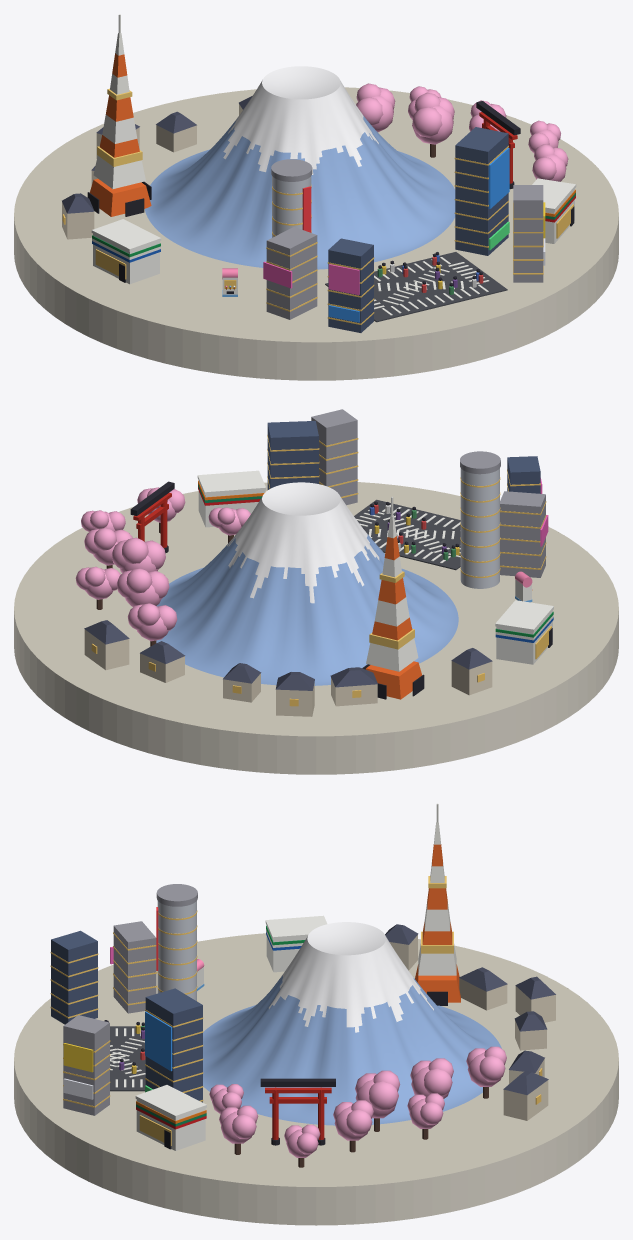
File: tokyo.glb
3 views of the same model, one above another, from view 1: azimuth 30°, elevation 25°; view 2: azimuth 150°, elevation 25°; view 3: azimuth 270°, elevation 25° (orthographic).
Parts seen in each view (by area): view 1: DECO-base, OBJ-mt-fuji, DECO-sakura, qfront-body, crossing-road, s109-wing-body, DECO-houses, tsutaya-east-body, shibuya-west-body, s109-drum, crossing-stripes, tower-0.0 (+13 smaller); view 2: DECO-base, OBJ-mt-fuji, DECO-houses, DECO-sakura, s109-drum, s109-wing-body, crossing-road, tsutaya-east-body, qfront-body, 7-eleven-roof, familymart-roof, crossing-stripes (+11 smaller); view 3: DECO-base, OBJ-mt-fuji, DECO-sakura, DECO-houses, qfront-body, shibuya-west-body, s109-wing-body, s109-drum, tsutaya-east-body, crossing-road, 7-eleven-roof, qfront-screen-0 (+10 smaller).
Boxes of the visible parts, x1=… form: DECO-base: x1=14, y1=87, x2=618, y2=380; OBJ-mt-fuji: x1=144, y1=66, x2=455, y2=269; DECO-sakura: x1=356, y1=83, x2=568, y2=181; qfront-body: x1=455, y1=127, x2=508, y2=255; crossing-road: x1=325, y1=252, x2=507, y2=322; s109-wing-body: x1=266, y1=227, x2=317, y2=319; DECO-houses: x1=62, y1=96, x2=252, y2=239; tsutaya-east-body: x1=513, y1=185, x2=543, y2=282; shibuya-west-body: x1=328, y1=238, x2=373, y2=332; s109-drum: x1=272, y1=176, x2=311, y2=237; crossing-stripes: x1=374, y1=257, x2=489, y2=315; tower-0.0: x1=90, y1=178, x2=151, y2=216; DECO-base: x1=14, y1=482, x2=618, y2=774; OBJ-mt-fuji: x1=156, y1=482, x2=458, y2=685; DECO-houses: x1=84, y1=620, x2=492, y2=716; DECO-sakura: x1=75, y1=487, x2=250, y2=646; s109-drum: x1=460, y1=468, x2=499, y2=588; s109-wing-body: x1=500, y1=491, x2=545, y2=577; crossing-road: x1=354, y1=499, x2=460, y2=570; tsutaya-east-body: x1=311, y1=409, x2=357, y2=505; qfront-body: x1=267, y1=421, x2=318, y2=489; 7-eleven-roof: x1=197, y1=470, x2=266, y2=494; familymart-roof: x1=495, y1=600, x2=553, y2=632; crossing-stripes: x1=356, y1=505, x2=460, y2=563; DECO-base: x1=14, y1=933, x2=618, y2=1225; OBJ-mt-fuji: x1=203, y1=922, x2=501, y2=1125; DECO-sakura: x1=209, y1=1046, x2=506, y2=1167; DECO-houses: x1=385, y1=924, x2=555, y2=1120; qfront-body: x1=145, y1=988, x2=202, y2=1102; shibuya-west-body: x1=51, y1=930, x2=97, y2=1024; s109-wing-body: x1=113, y1=921, x2=156, y2=1013; s109-drum: x1=157, y1=901, x2=196, y2=1000; tsutaya-east-body: x1=63, y1=1015, x2=109, y2=1115; crossing-road: x1=110, y1=1026, x2=145, y2=1091; 7-eleven-roof: x1=135, y1=1085, x2=206, y2=1118; qfront-screen-0: x1=145, y1=1011, x2=172, y2=1071.
Size of the model in its own units: 2 by 0.8288 by 2.
